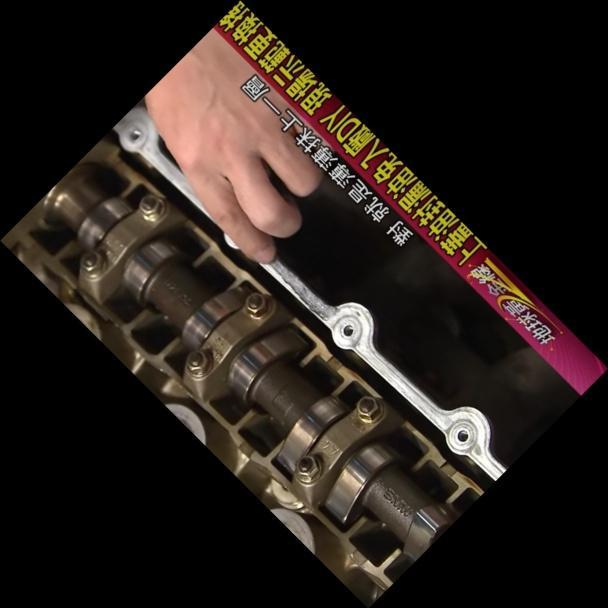hole: (450, 423, 473, 445), (338, 320, 357, 339)
